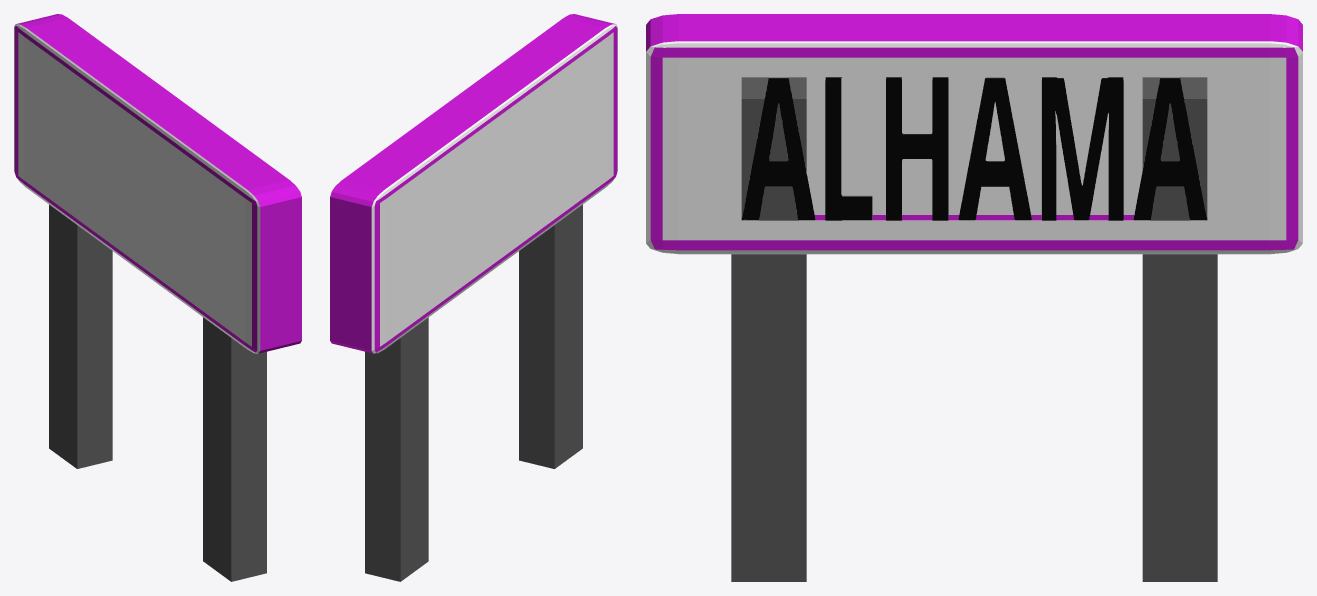
File: CartelAlhama.fbx
3 views of the same model, side by side, from view 1: azimuth 30°, elevation 25°; view 2: azimuth 150°, elevation 25°; view 3: azimuth 270°, elevation 25° (orthographic). The views are drawn at different scales.
Visible parts, largest first — view 1: Cube; view 2: Cube; view 3: Cube.
Part boxes in pixels (bbox=[...]): Cube: bbox=[14, 14, 301, 581]; Cube: bbox=[330, 14, 617, 581]; Cube: bbox=[646, 14, 1302, 581].
Bounding box in the file's own units: 26.8 × 225 × 246.
